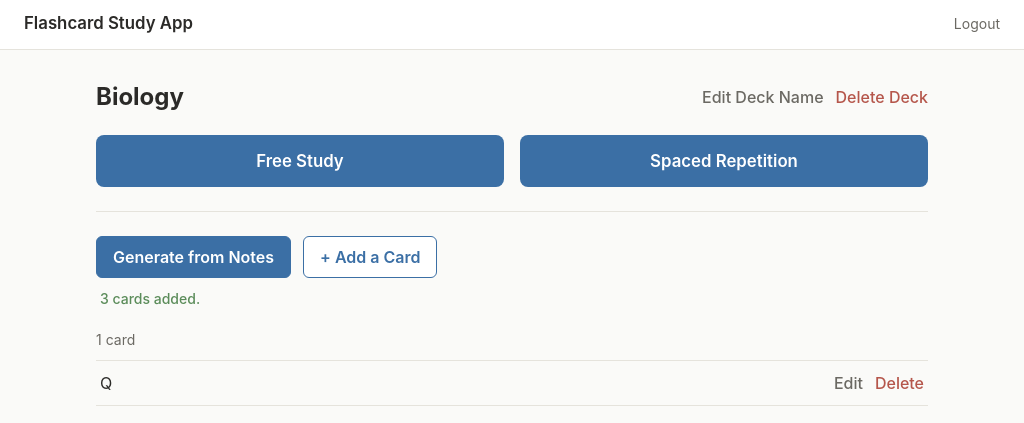
Test: DeckDetailPage › clears the added-cards message on editing the deck name
Check: the text "3 cards added." is shown, box [100, 290, 200, 307]
Click the button "Edit Deck Name" at point(763, 96), box [702, 86, 824, 106]
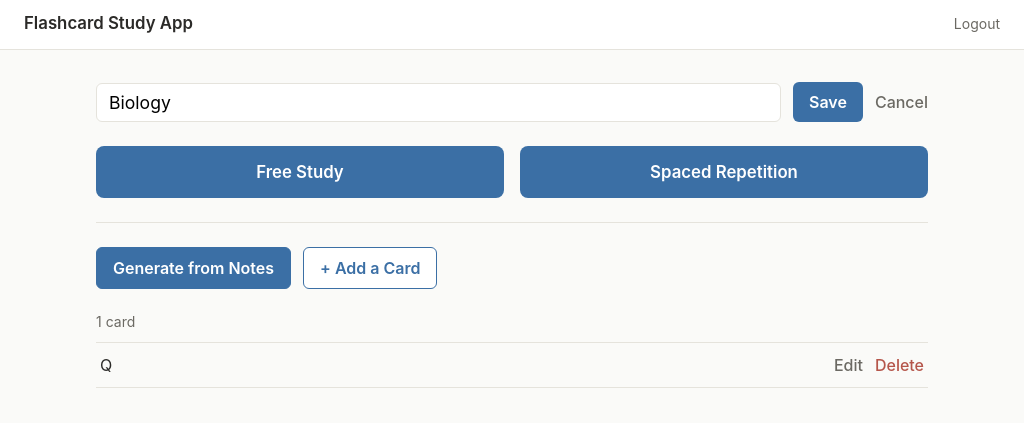
Check: the text "3 cards added." is gone
